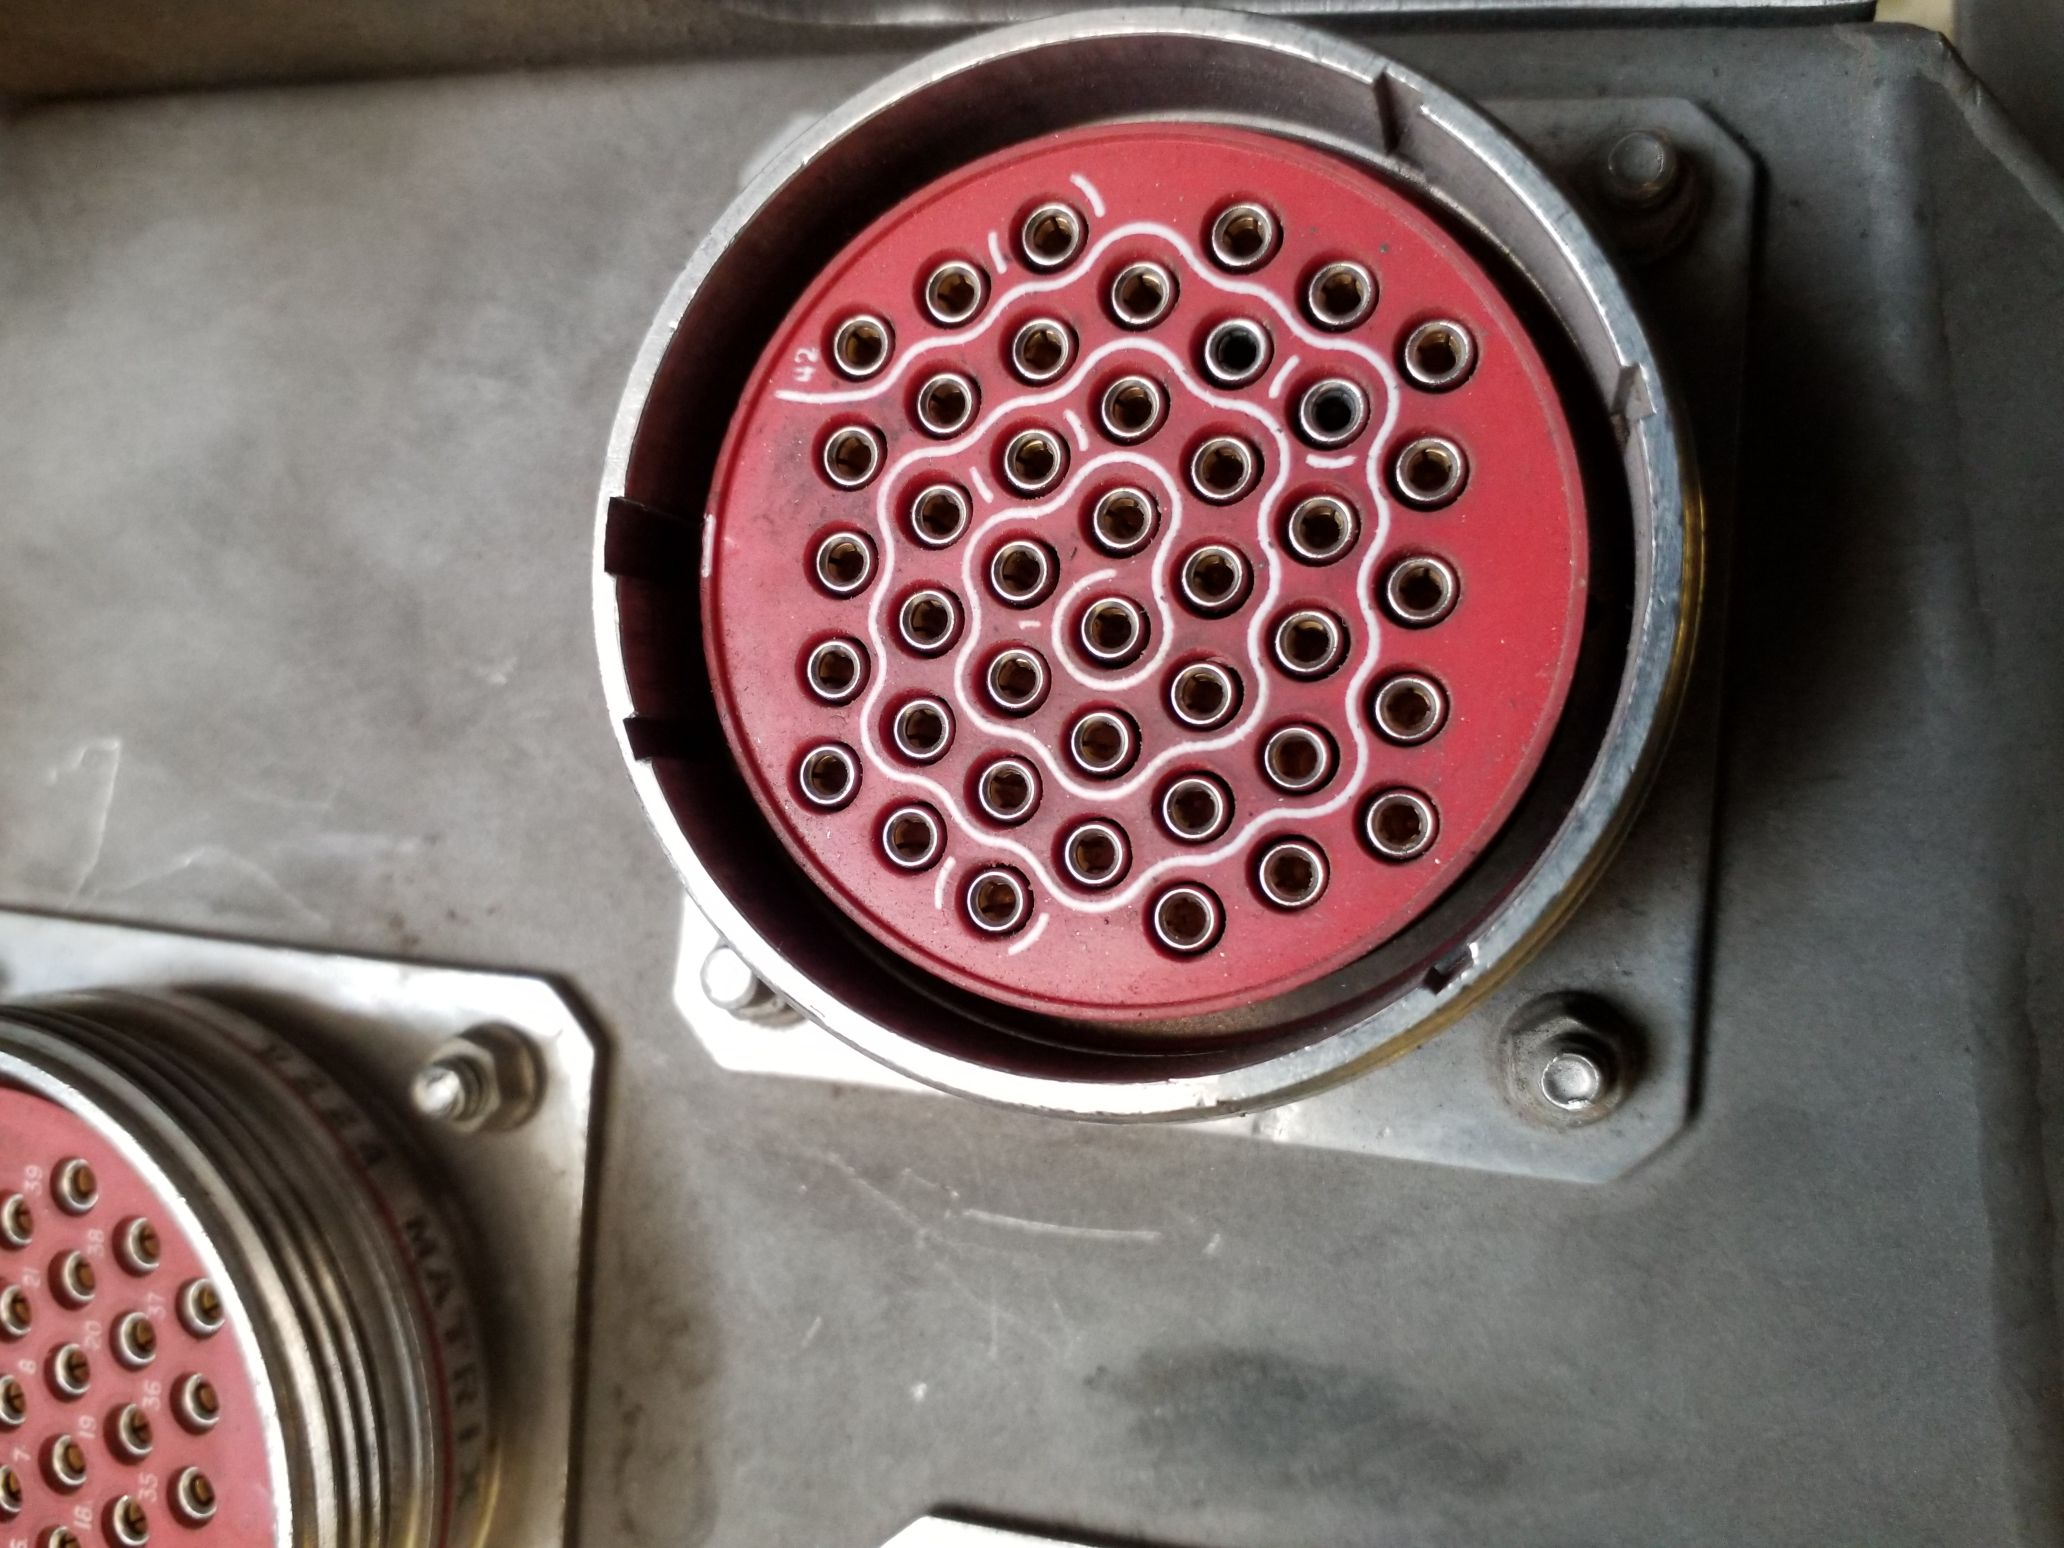inletround: (588, 11, 1758, 1150)
